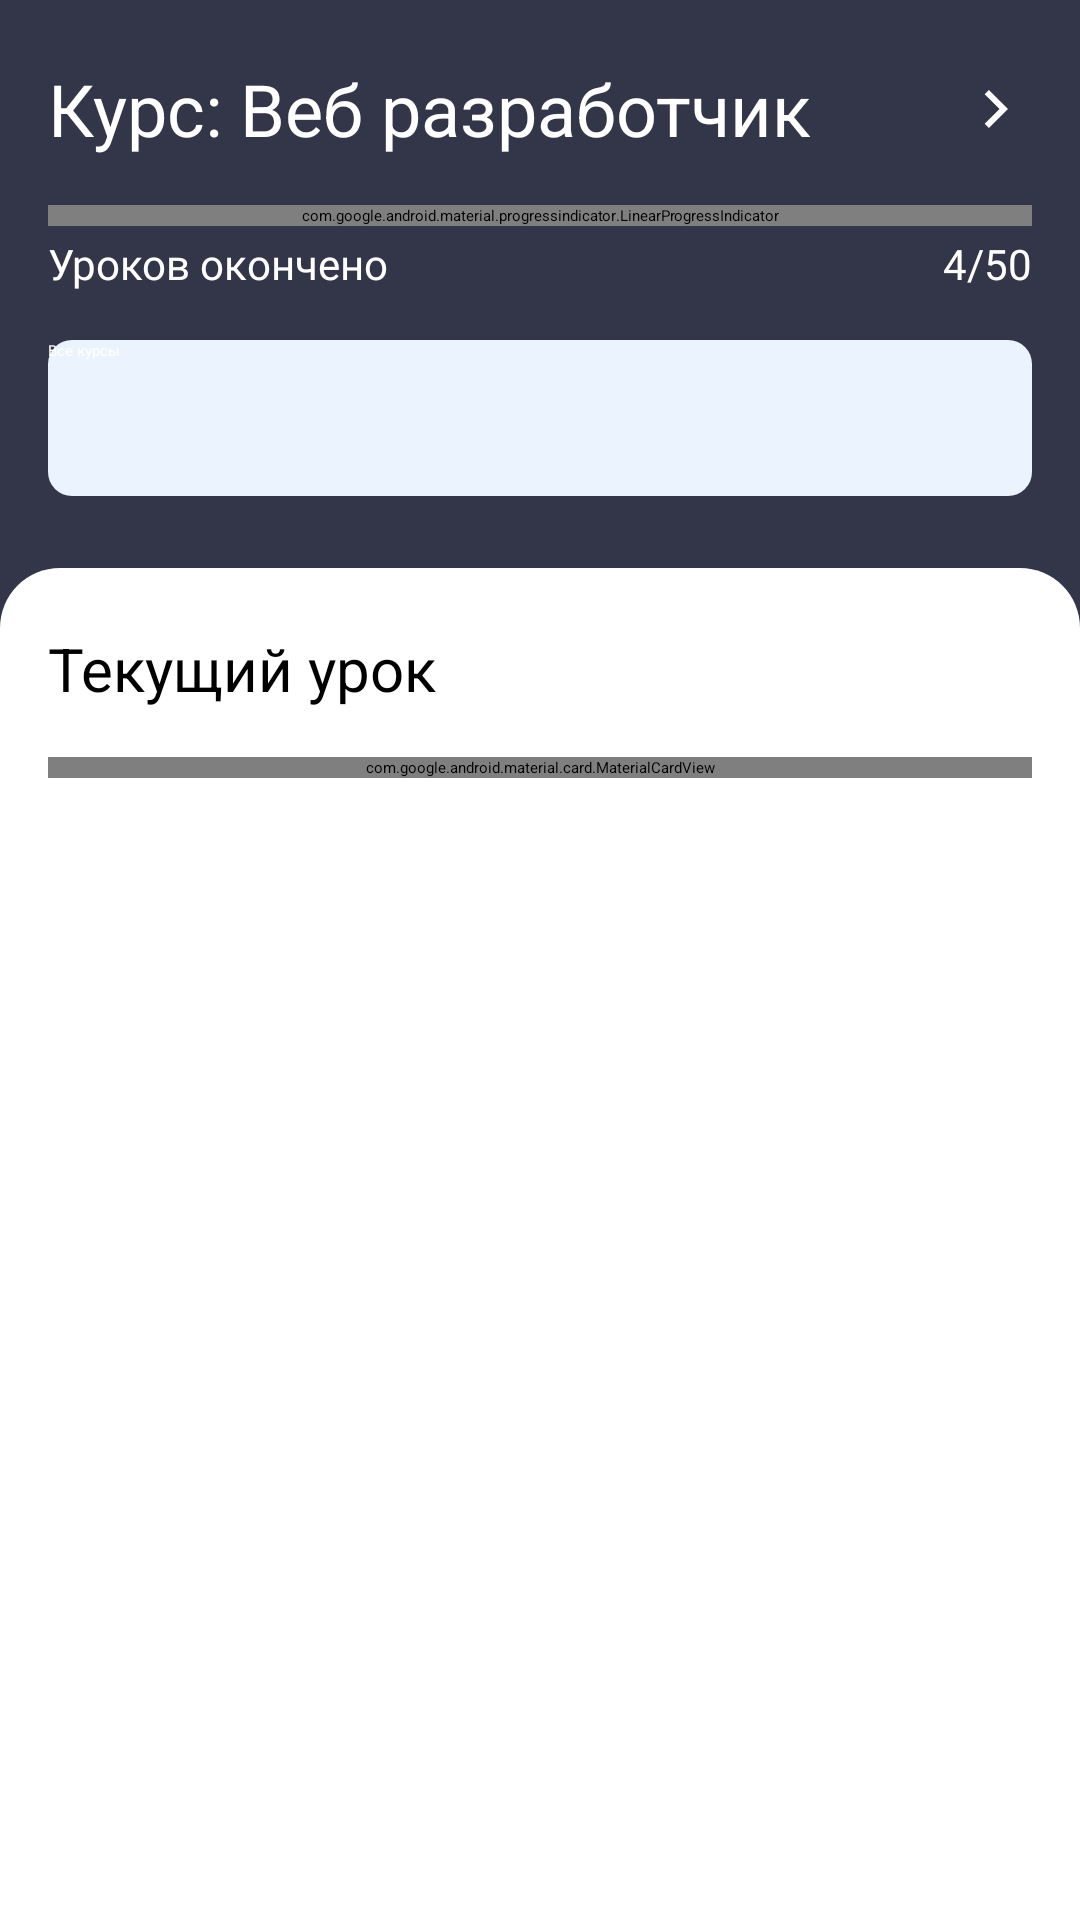

Icons on this 1080 × 1920 Android screen, each with its box as (x1, y1, x2, y2):
arrow right: (985, 90, 1008, 128)
